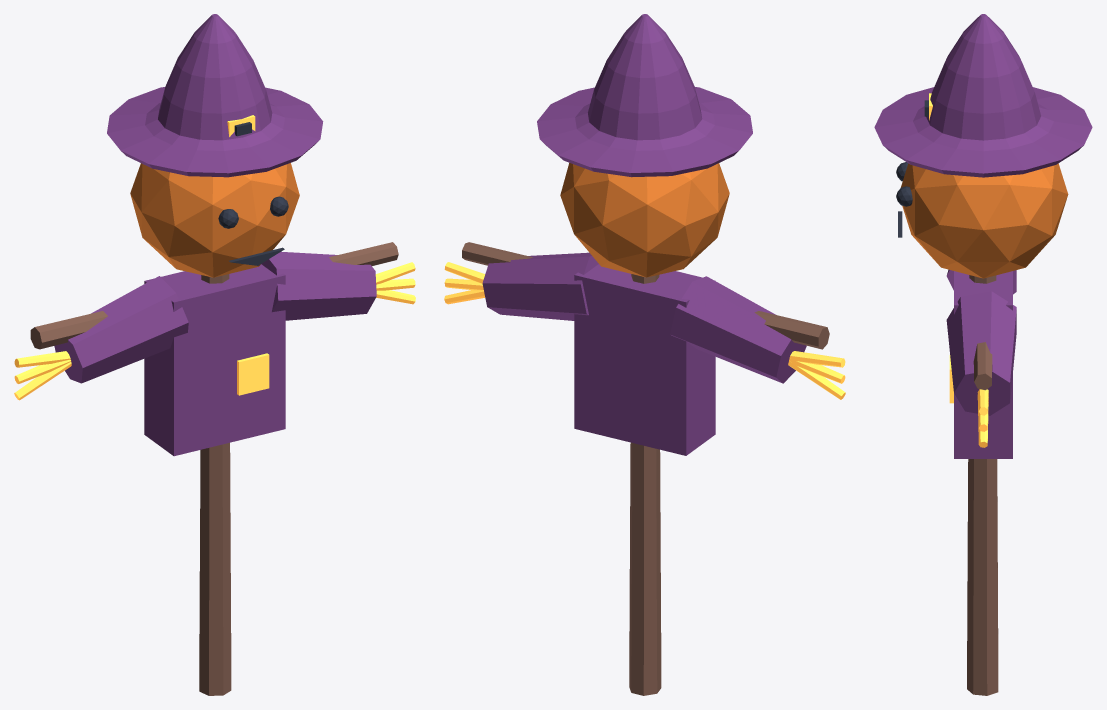
The model's file is scarecrow.glb.
3 renders of one model, left to right at view 1: azimuth 30°, elevation 25°; view 2: azimuth 150°, elevation 25°; view 3: azimuth 270°, elevation 25°, orthographic.
Parts seen in each view (by area): view 1: scarecrow; view 2: scarecrow; view 3: scarecrow.
Part boxes in pixels (bbox=[...]): scarecrow: bbox=[14, 14, 415, 695]; scarecrow: bbox=[444, 14, 845, 695]; scarecrow: bbox=[874, 14, 1092, 695].
Size of the model in its own units: 1.25 by 2.02 by 0.5916.
